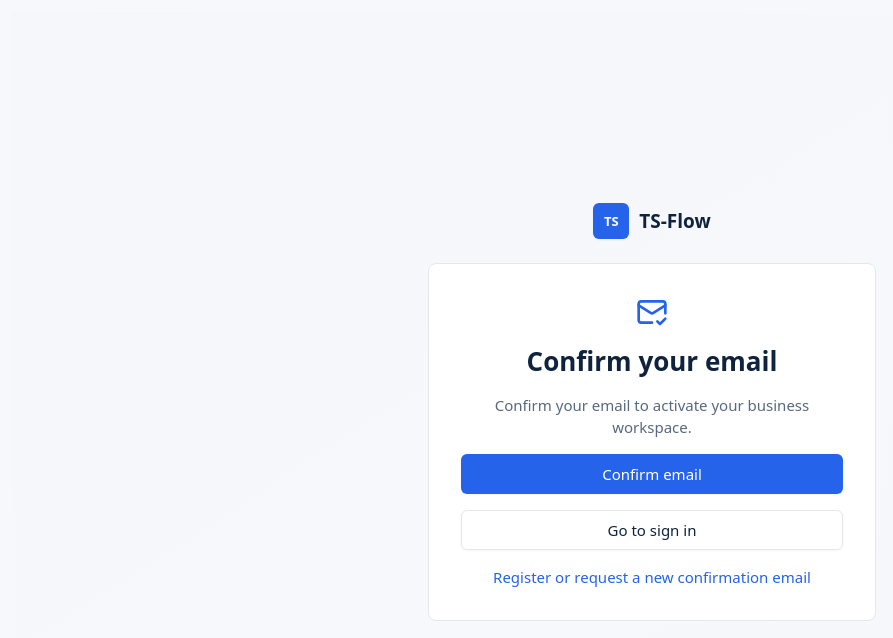
it: manual signup confirmation › never consumes tokens on page load; confirms once after a person clicks
Click the button "Confirm email": x=652, y=474 [461, 454, 843, 494]
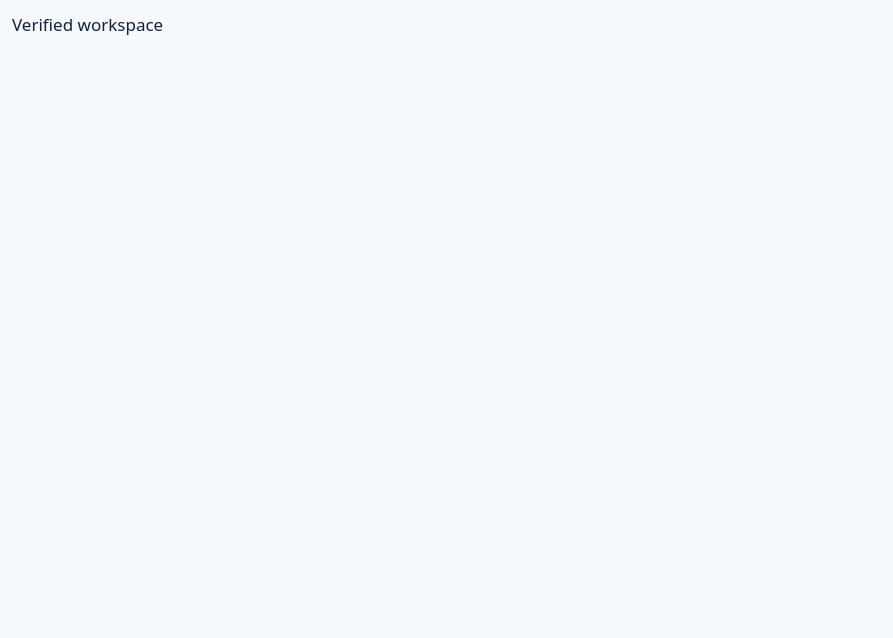
Now the text "Verified workspace" is shown, box [12, 13, 163, 36]
